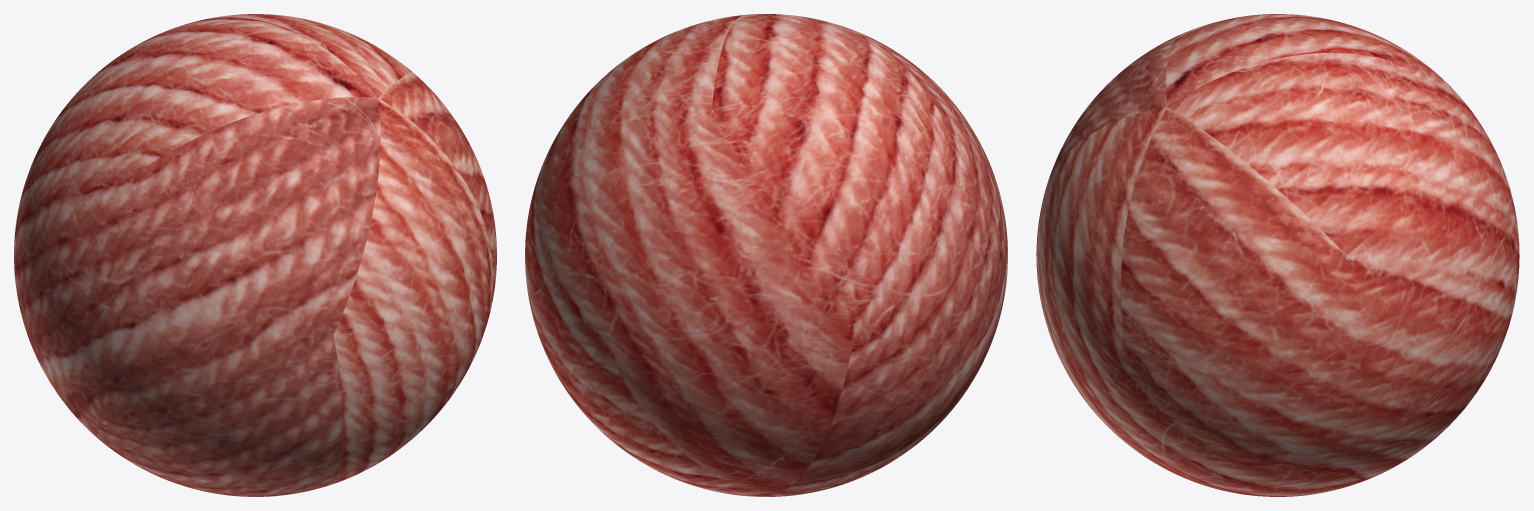
The model's file is ball1.obj.
The picture shows the model from 3 angles, left to right: view 1: azimuth 30°, elevation 25°; view 2: azimuth 150°, elevation 25°; view 3: azimuth 270°, elevation 25°; orthographic projection.
Parts seen in each view (by area): view 1: Icosphere.005; view 2: Icosphere.005; view 3: Icosphere.005.
Boxes of the visible parts, x1=… form: Icosphere.005: x1=14, y1=14, x2=496, y2=496; Icosphere.005: x1=525, y1=14, x2=1007, y2=496; Icosphere.005: x1=1036, y1=14, x2=1519, y2=496.
Size of the model in its own units: 0.9999 by 1 by 0.9999.
1 material, 1 textured.
